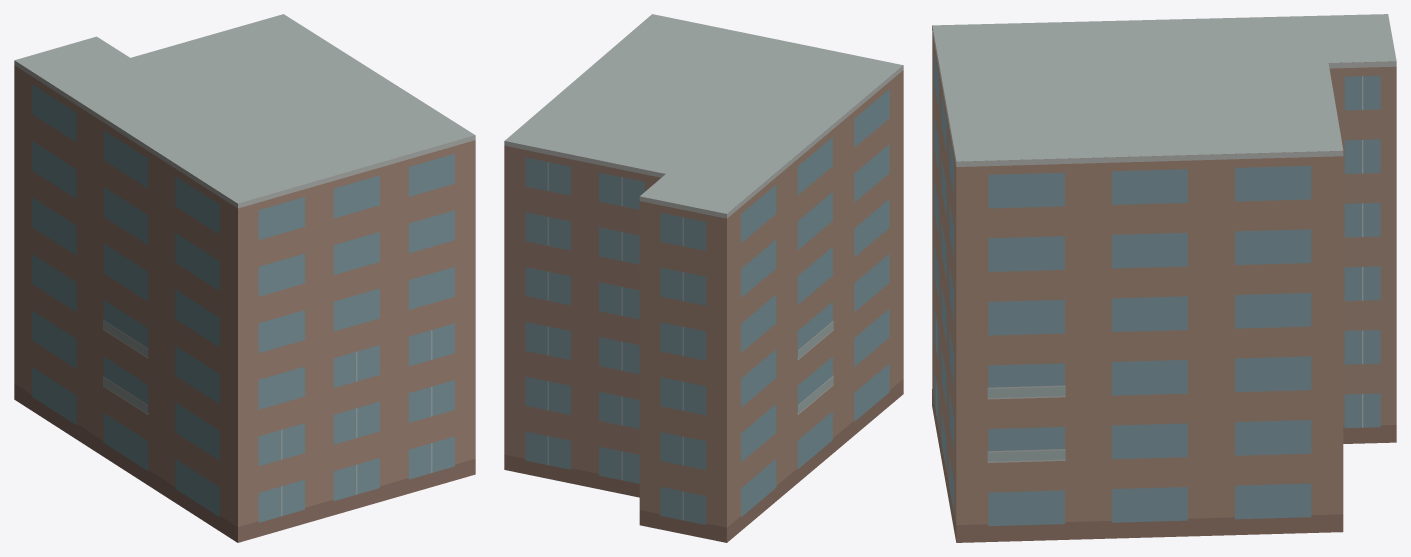
Rendered from survey-upis-32916430.glb.
3 renders of one model, left to right at view 1: azimuth 30°, elevation 25°; view 2: azimuth 150°, elevation 25°; view 3: azimuth 270°, elevation 25°, orthographic. The views are drawn at different scales.
Parts seen in each view (by area): view 1: survey-upis-32916430.tmp; view 2: survey-upis-32916430.tmp; view 3: survey-upis-32916430.tmp.
Boxes of the visible parts, box(x1,y1,x2,y2) form: survey-upis-32916430.tmp: box(14, 14, 475, 542); survey-upis-32916430.tmp: box(504, 14, 903, 542); survey-upis-32916430.tmp: box(932, 14, 1396, 542).
Bounding box in the file's own units: 14.12 × 17 × 18.78.
